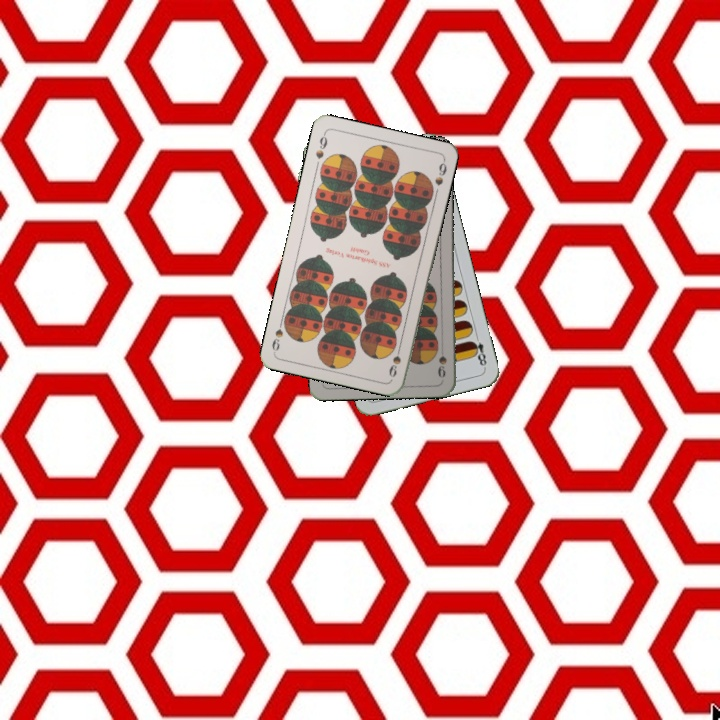E8: (467, 330, 489, 370)
S9: (385, 340, 404, 380), (434, 340, 449, 380), (312, 129, 330, 162)
